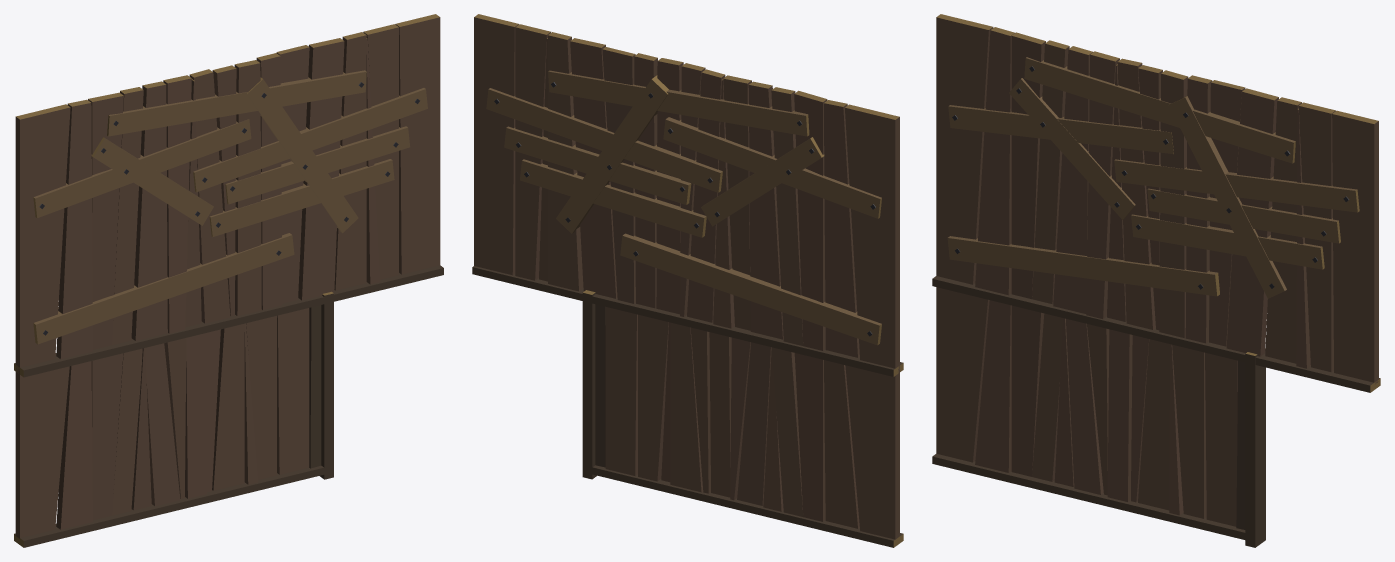
Rendered from Wall_2D_Door_6m.fbx.
3 renders of one model, left to right at view 1: azimuth 30°, elevation 25°; view 2: azimuth 150°, elevation 25°; view 3: azimuth 330°, elevation 25°, orthographic. The views are drawn at different scales.
Parts seen in each view (by area): view 1: pCube2424; view 2: pCube2424; view 3: pCube2424.
Boxes of the visible parts, box(x1,y1,x2,y2) form: pCube2424: box(14, 14, 443, 547); pCube2424: box(472, 14, 903, 547); pCube2424: box(932, 14, 1380, 547).
Size of the model in its own units: 600 by 588 by 27.44.
